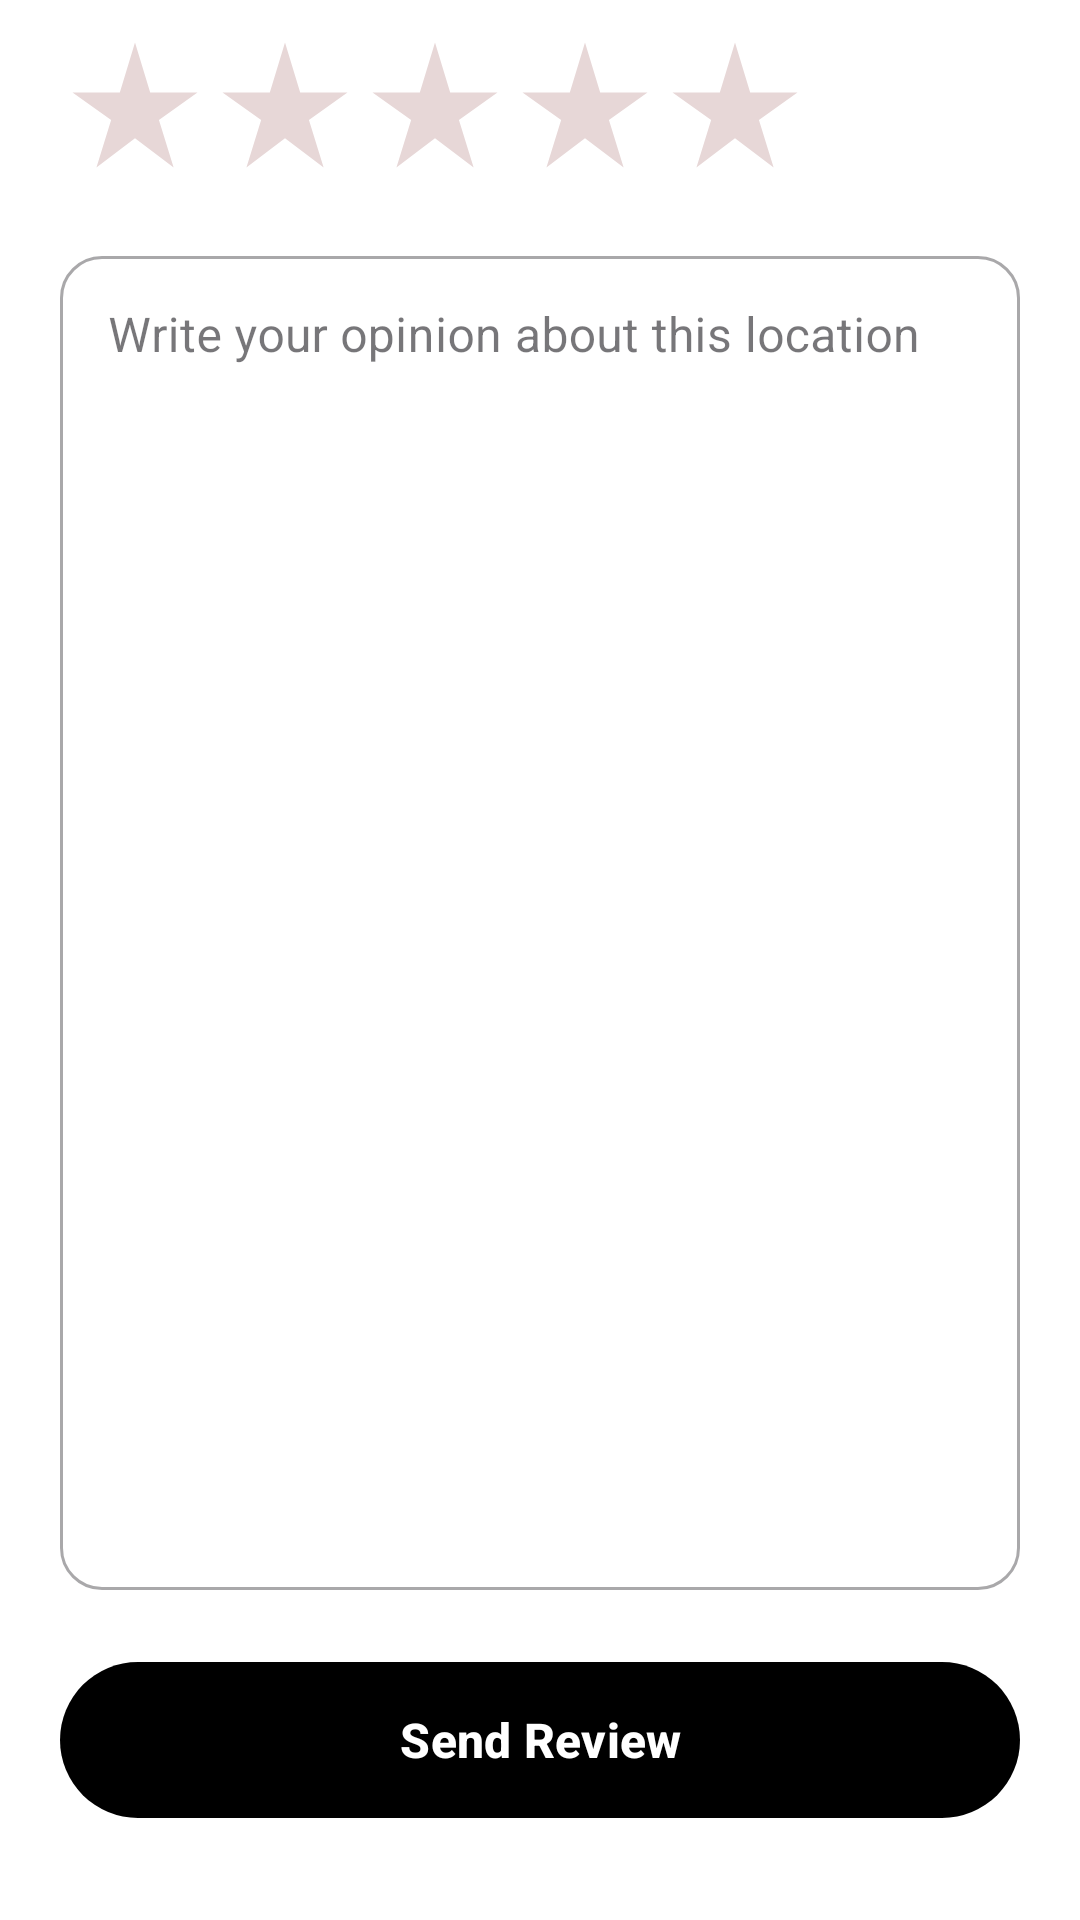

Point at icon controls on the screen. Image size 1080px x 1920px, points as point (x, y).
star disable: point (135, 106), point (285, 106), point (435, 106), point (585, 106), point (735, 106)
